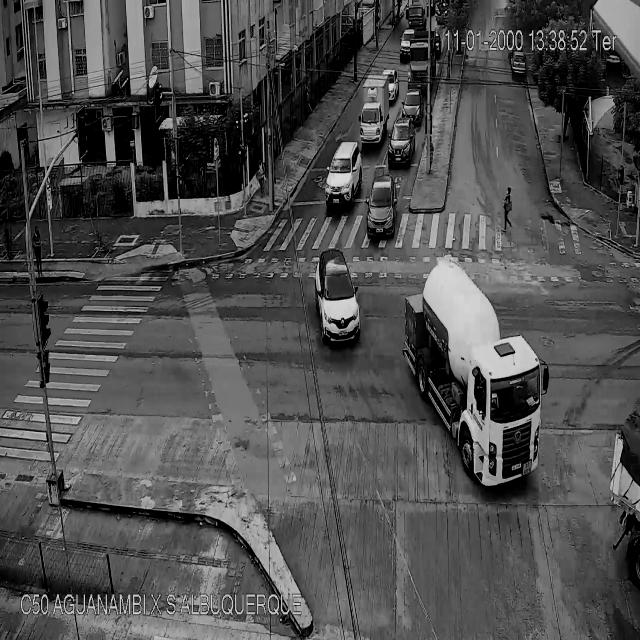Car: (315, 251, 361, 344), (324, 140, 362, 208), (366, 178, 396, 240), (389, 115, 416, 168), (402, 90, 422, 127), (384, 68, 400, 102), (511, 52, 526, 75), (400, 32, 411, 59)
Truck: (403, 258, 549, 488), (601, 363, 640, 600), (359, 72, 388, 142), (409, 29, 435, 92), (403, 0, 432, 30)
